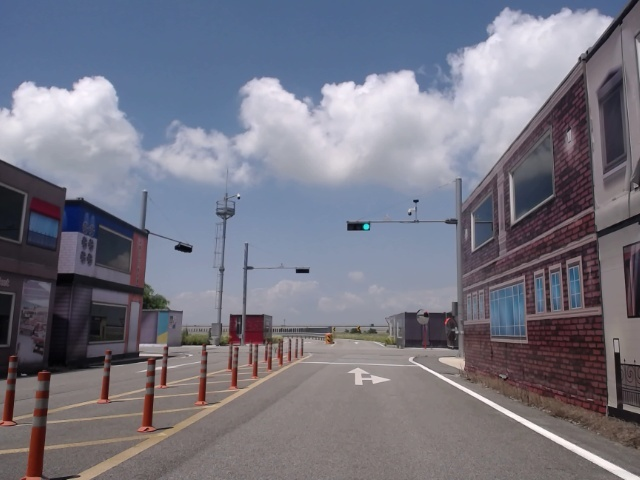green_3: (348, 224, 370, 230)
